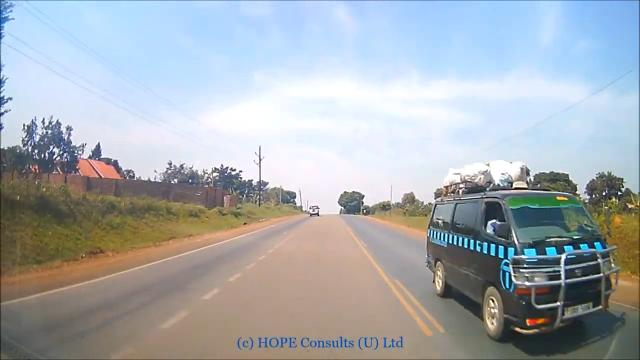car: (308, 205, 320, 216)
van: (422, 191, 613, 333)
